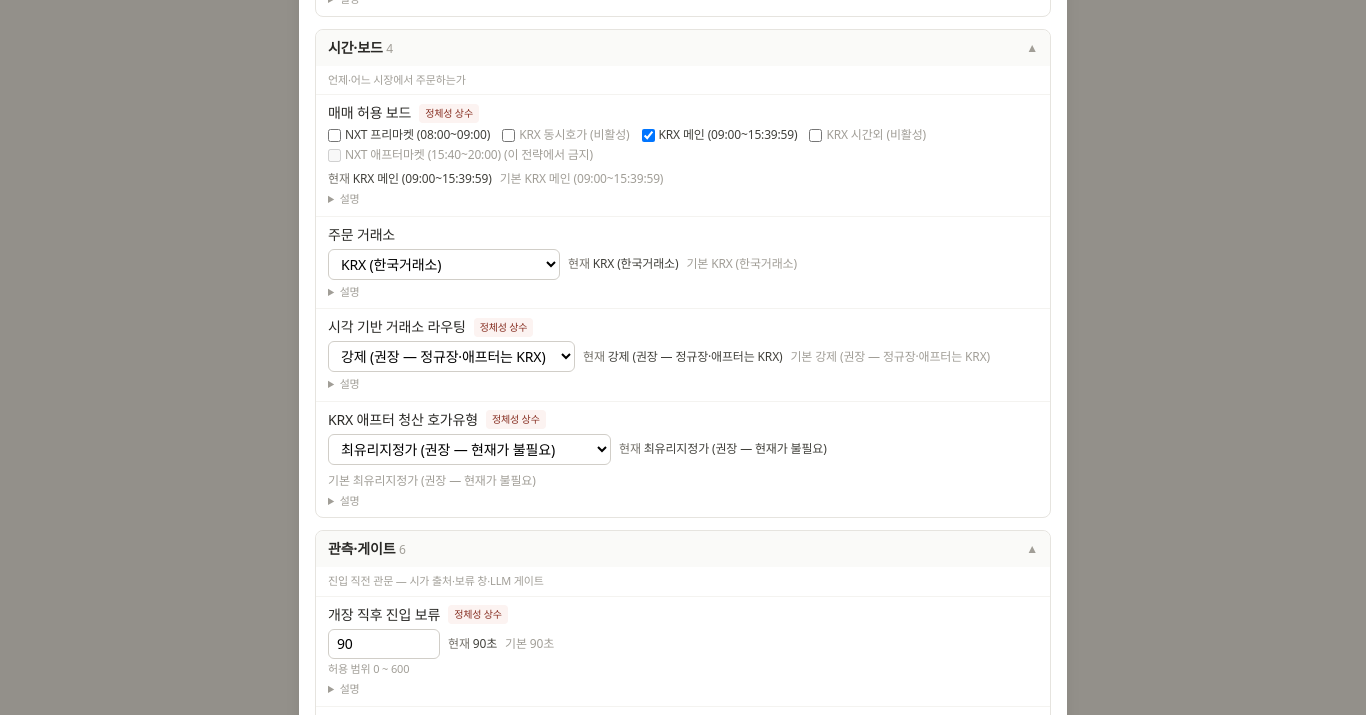
Test: cycle290 — 장중 킬스위치 두 키가 편집기에 노출된다 (등재 전엔 PUT 이 422 였다) › help 설명이 두 키 모두 존재하고 사고 중 조작 순서·부작용을 담는다(잘리지 않는다)
(page scrolled)
What coordinates should you click on to do the following:
click the heading "설명" below "시각 기반 거래소 라우팅"
I would click on:
 (350, 384)
Its box is [340,376,360,391].
(page scrolled)
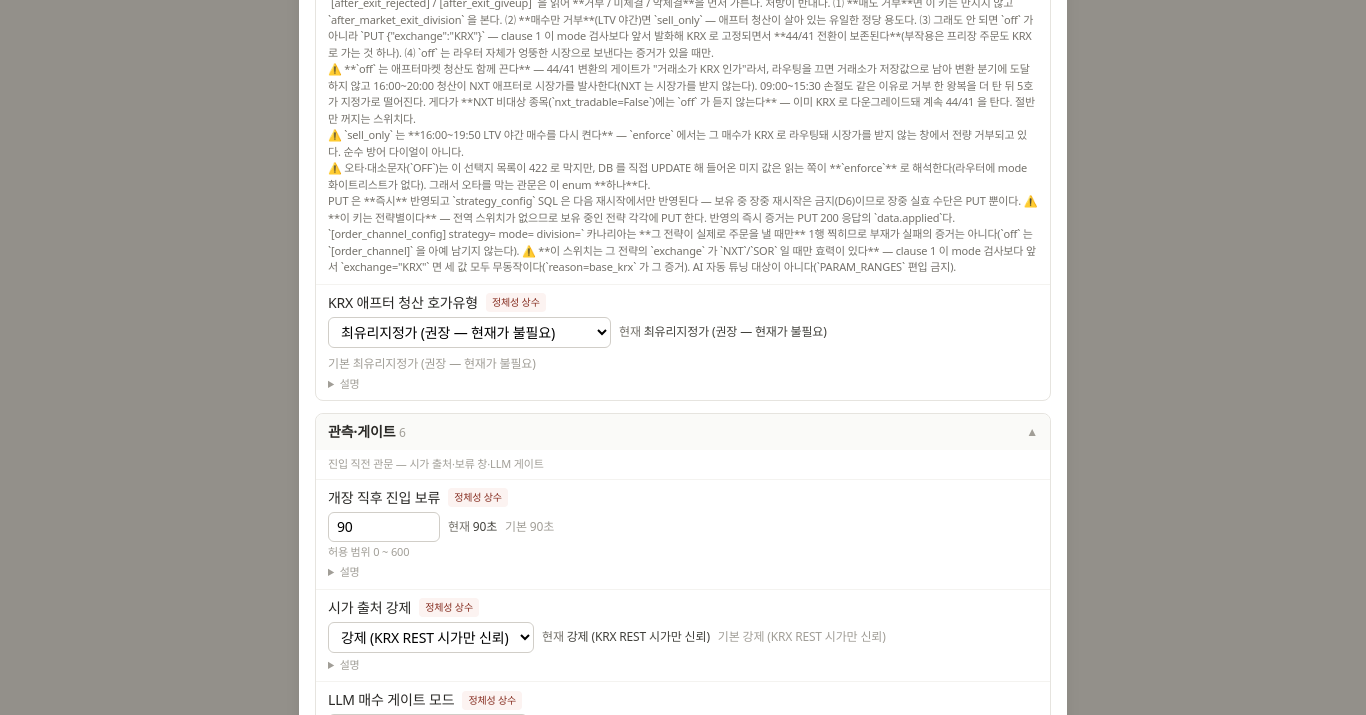
Expected: the text with test id "strategy-params-help-order-exchange-clock-mode" shows "사고 중 조작 순서", [328,0,1037,274]
What coordinates should you click on to do the following:
click the heading "설명" below "KRX 애프터 청산 호가유형"
I would click on:
 (350, 383)
Its box is [340,376,360,390].
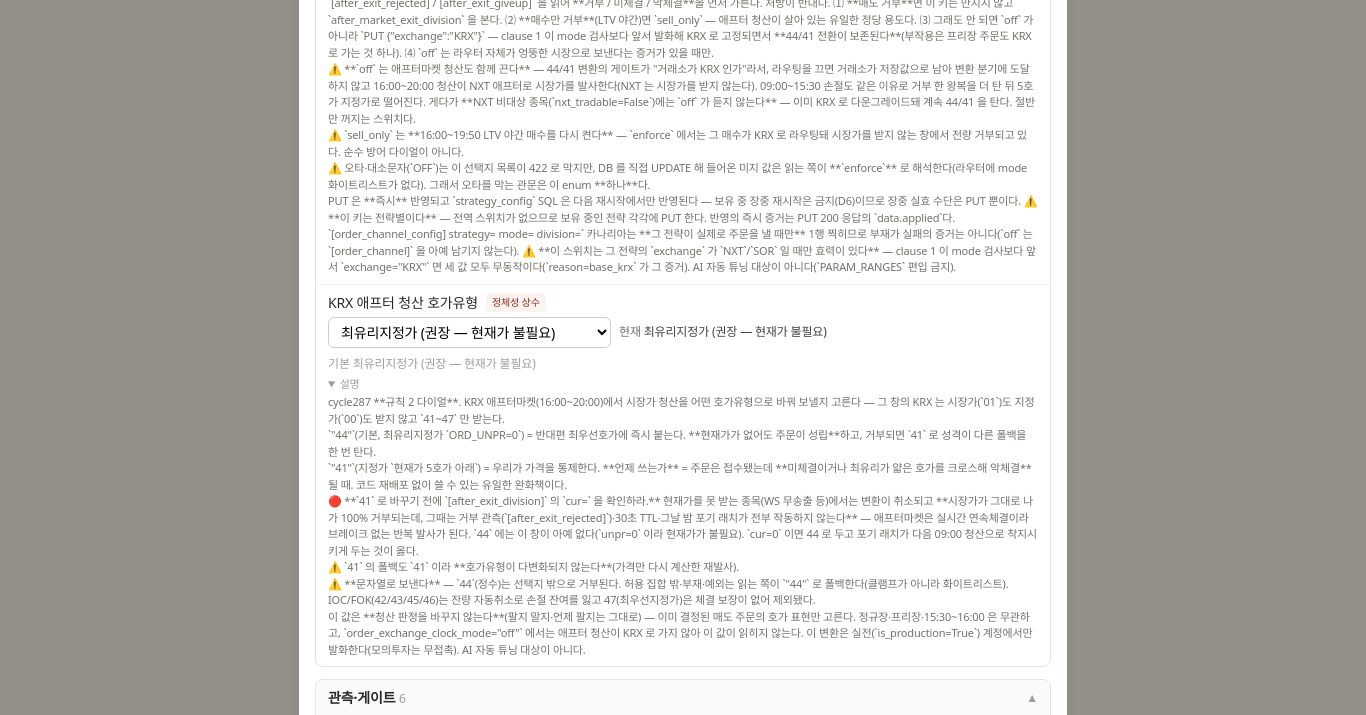
Expected: the text with test id "strategy-params-help-after-market-exit-division" shows "cur=", [328,394,1037,656]
